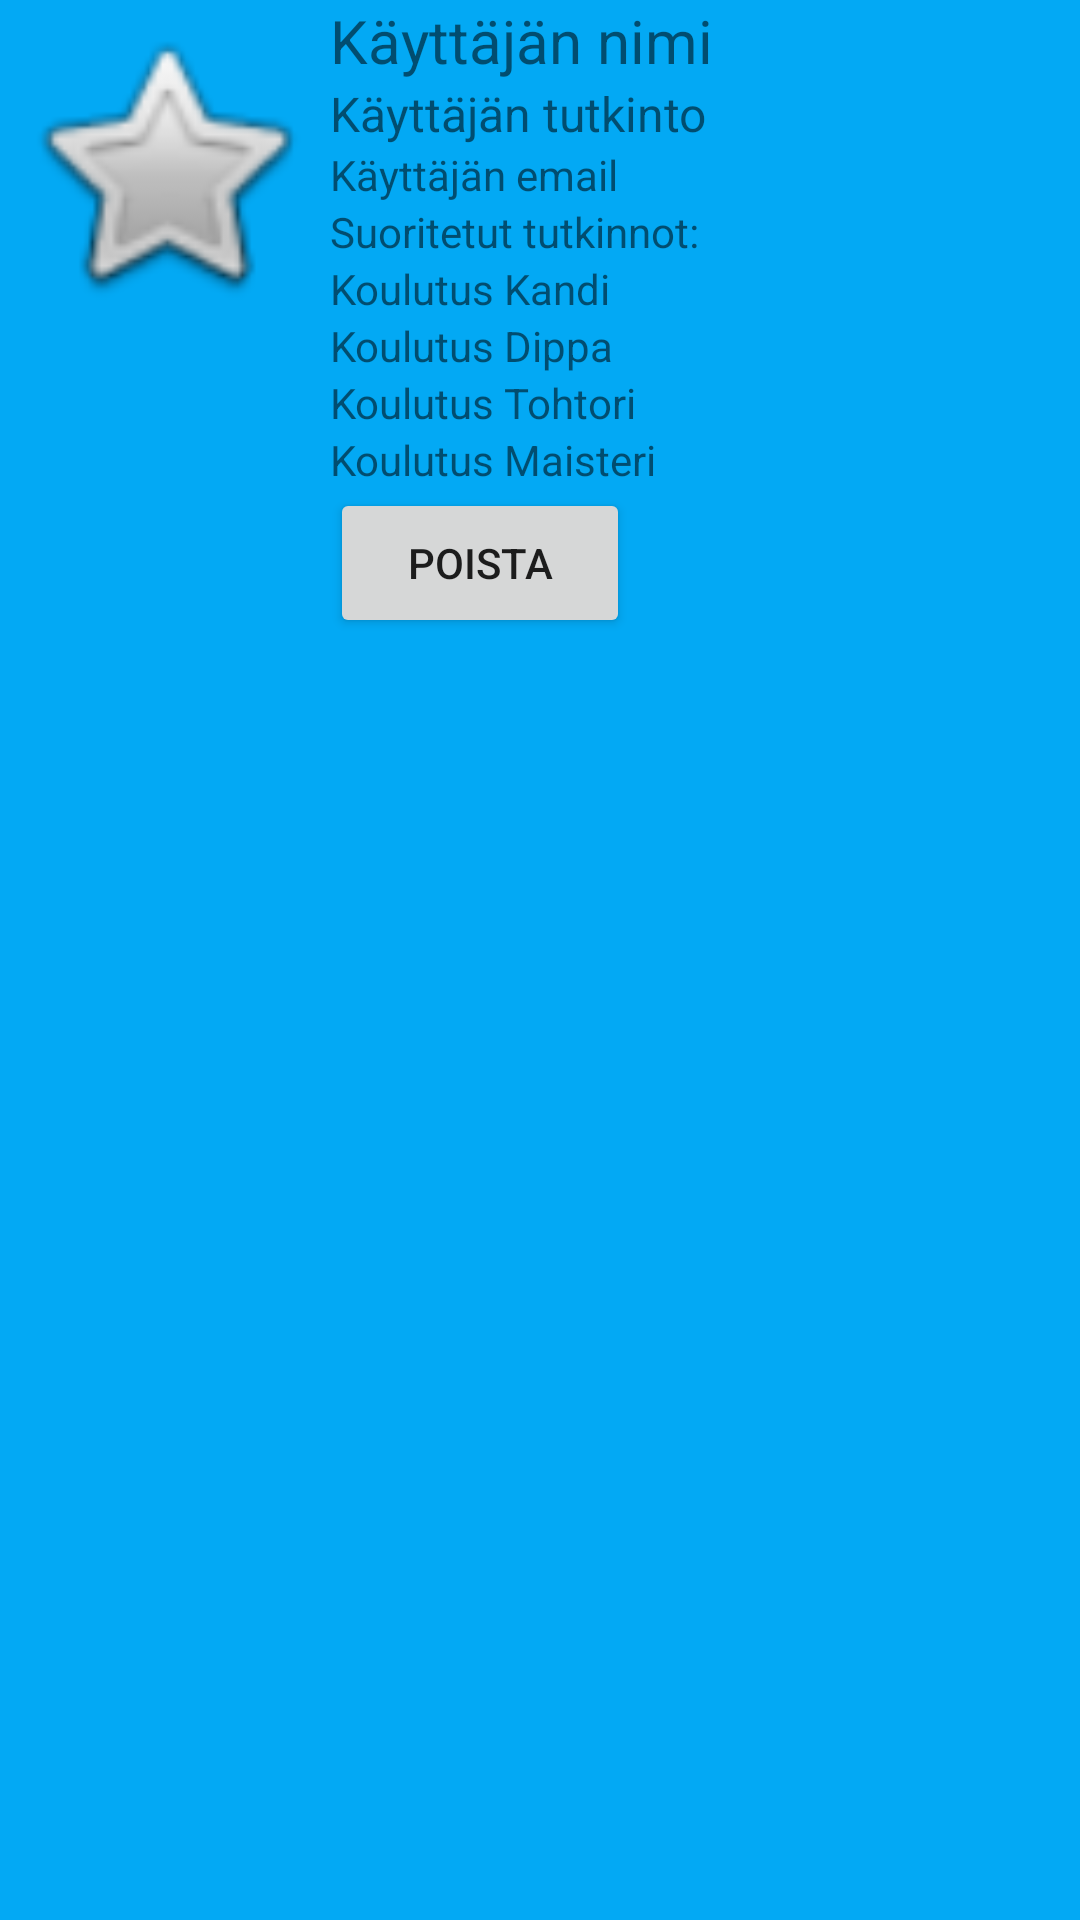

Icons on this 1080w x 1920h Android screen, each with its box as (x1, y1, x2, y2):
star: (42, 45, 293, 289)
